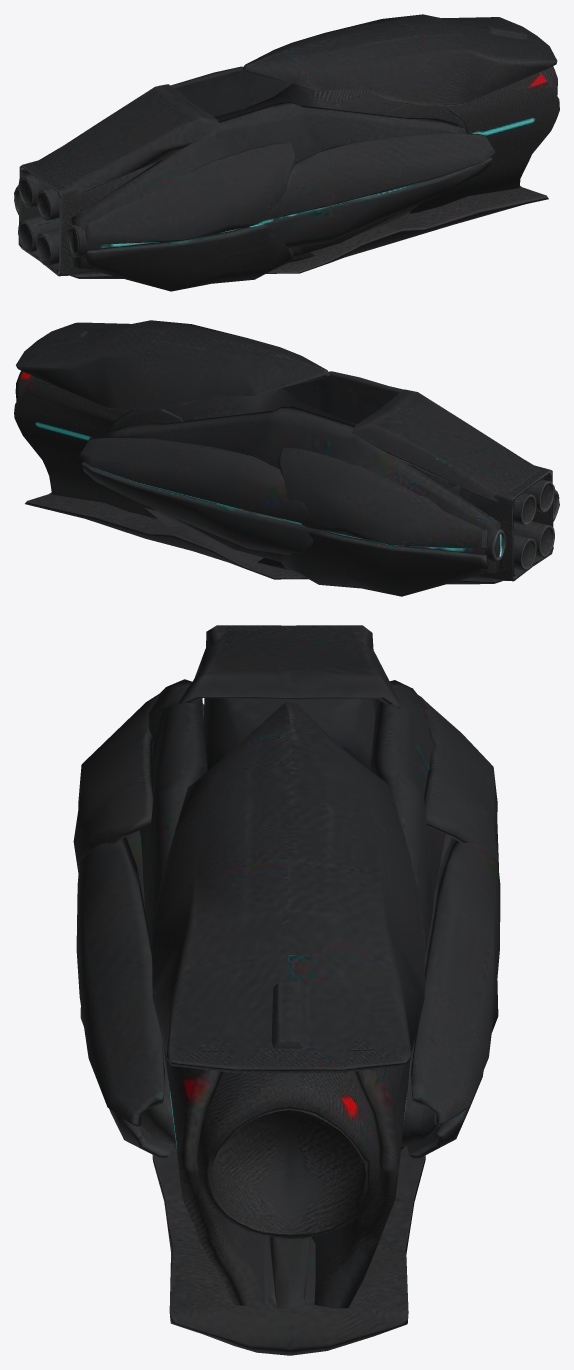
The model's file is wpn_missile.glb.
3 views of the same model, one above another, from view 1: azimuth 30°, elevation 25°; view 2: azimuth 150°, elevation 25°; view 3: azimuth 270°, elevation 25° (orthographic). The views are drawn at different scales.
Size of the model in its own units: 1 by 0.3899 by 0.3658.
Materials: 1 (1 with a texture image).
